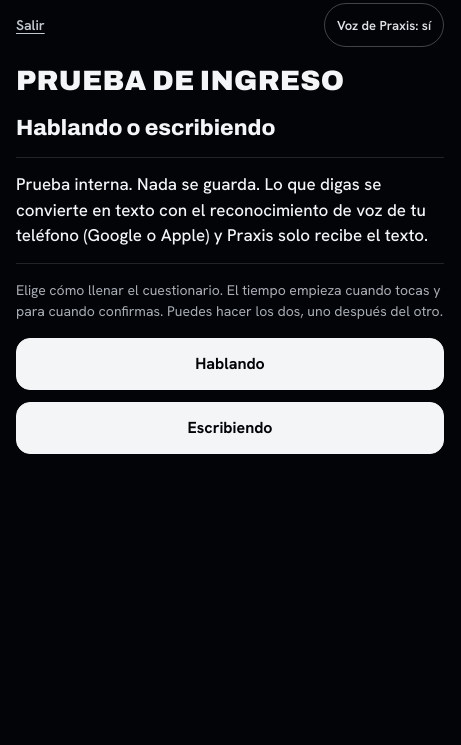
Test: ESCRIBIENDO: el mismo formulario, vacío, a mano › un campo de salud sí/no abre su detalle escrito
Click the button "Escribiendo" at (230, 428), box [16,402,444,454]
(page scrolled)
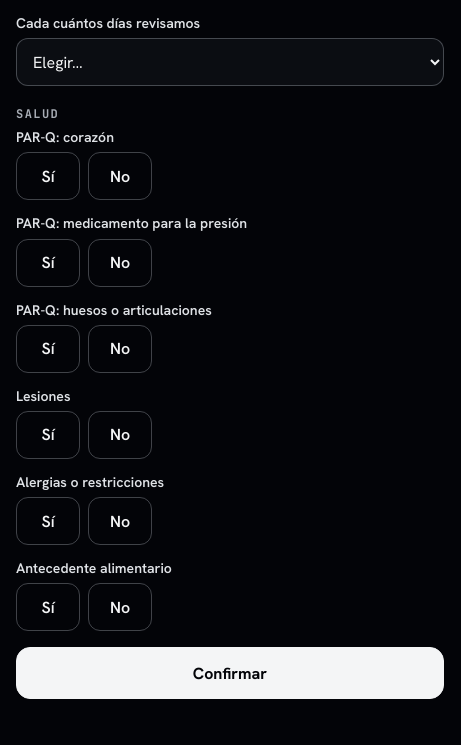
Click the button "Sí" below "Lesiones" at (48, 435), box [16,411,80,459]
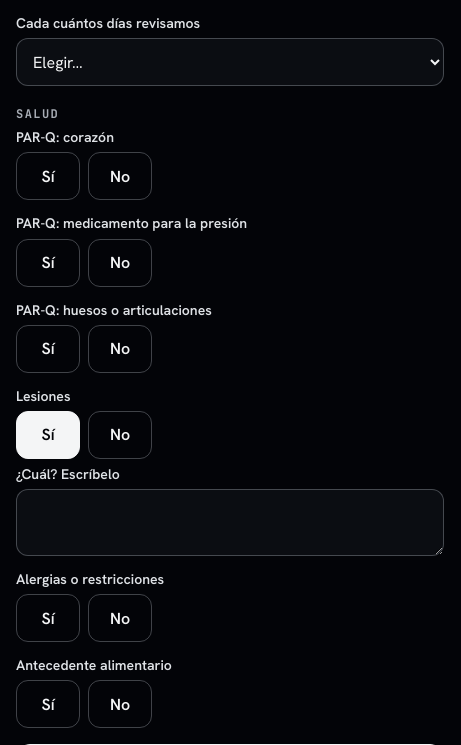
Expected: the text box is shown, [16,489,444,556]
